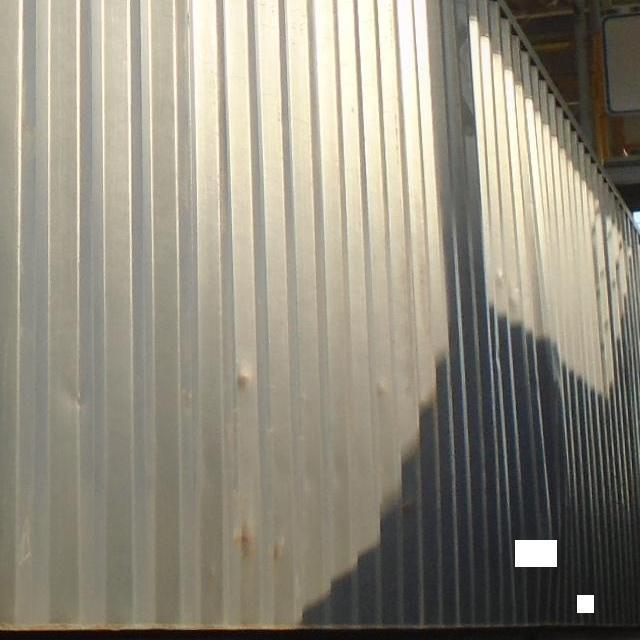dent: (531, 322, 575, 526)
